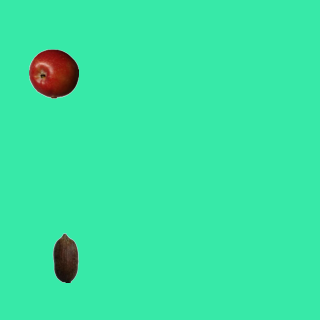Apple Braeburn: (28, 48, 78, 98)
Nut Pecan: (40, 232, 90, 282)
